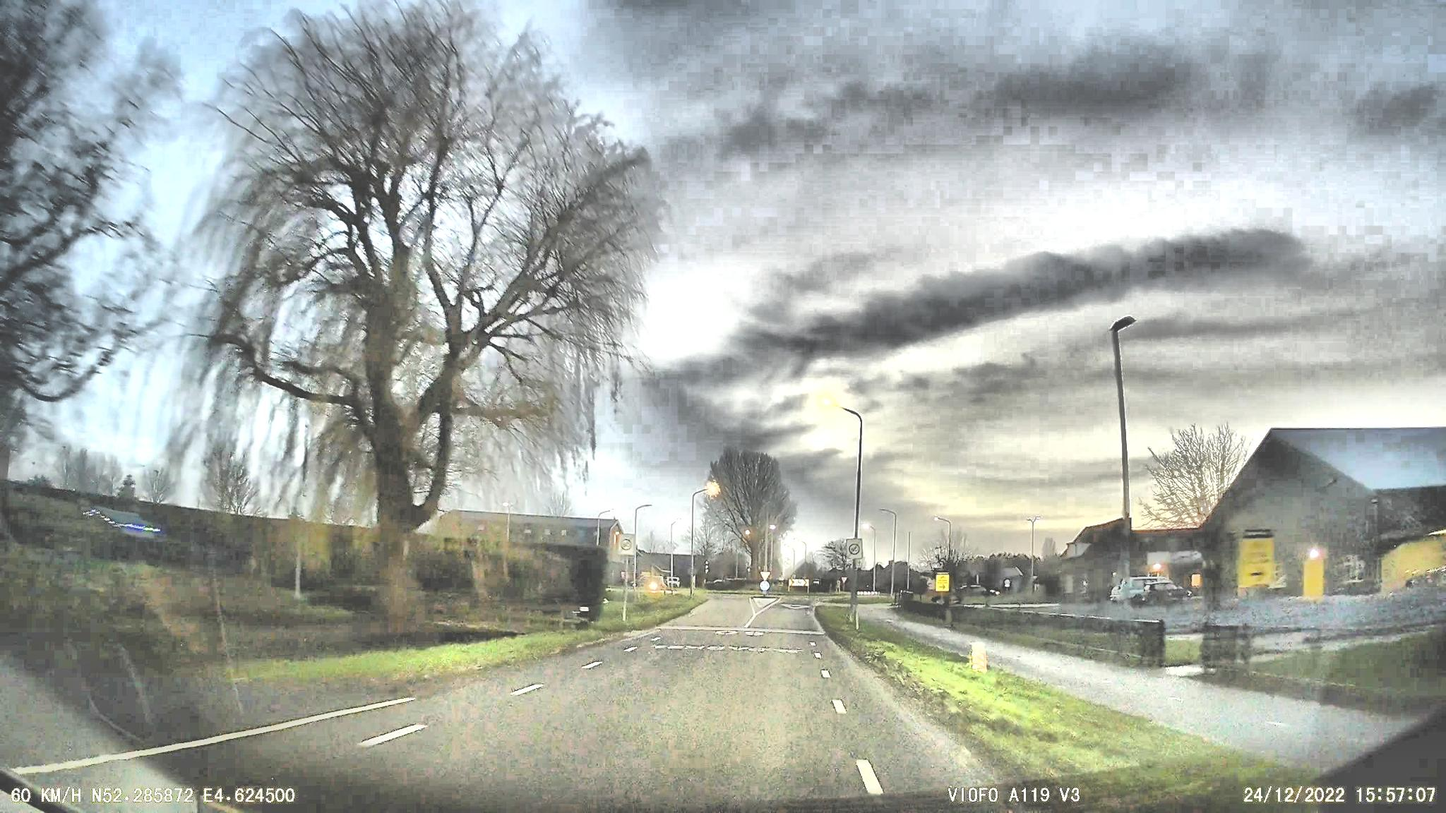Roads: (18, 597, 956, 813)
